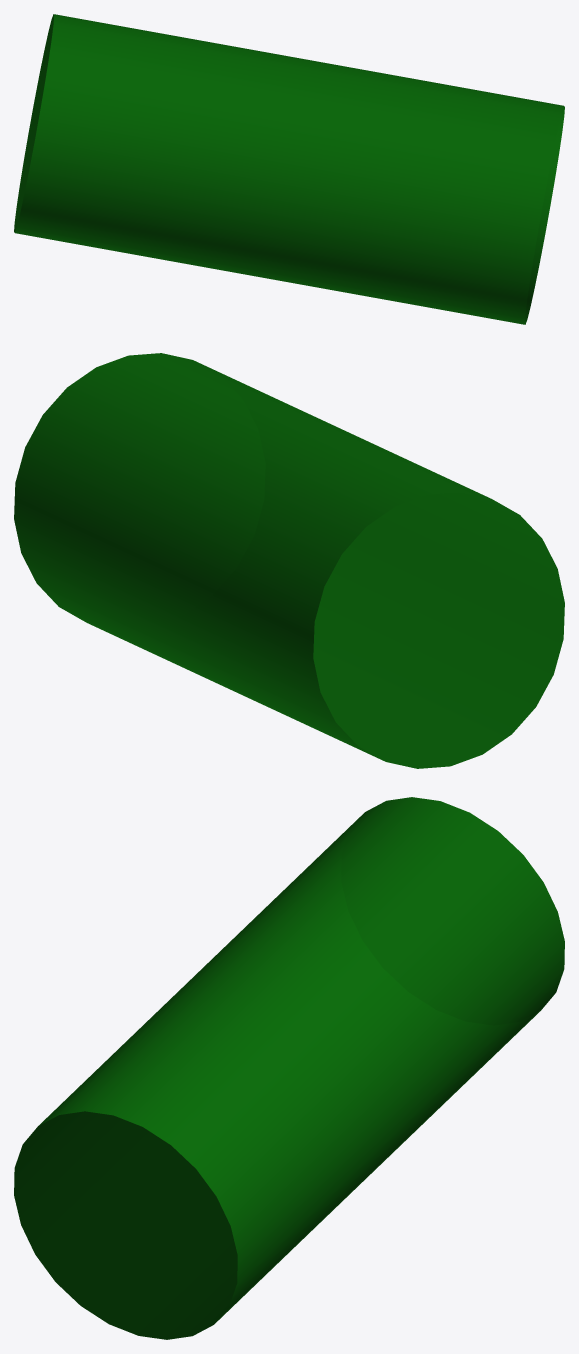
The model's file is Event_195102316_jet_3.fbx.
The picture shows the model from 3 angles, top to bottom: view 1: azimuth 30°, elevation 25°; view 2: azimuth 150°, elevation 25°; view 3: azimuth 270°, elevation 25°; orthographic projection. The views are drawn at different scales.
Visible parts, largest first — view 1: Model; view 2: Model; view 3: Model.
Part boxes in pixels (x1,y1,x2,y2): Model: (14,14,564,324); Model: (14,353,564,768); Model: (14,797,564,1339).
Size of the model in its own units: 0.0995 by 0.0556 by 0.083.
